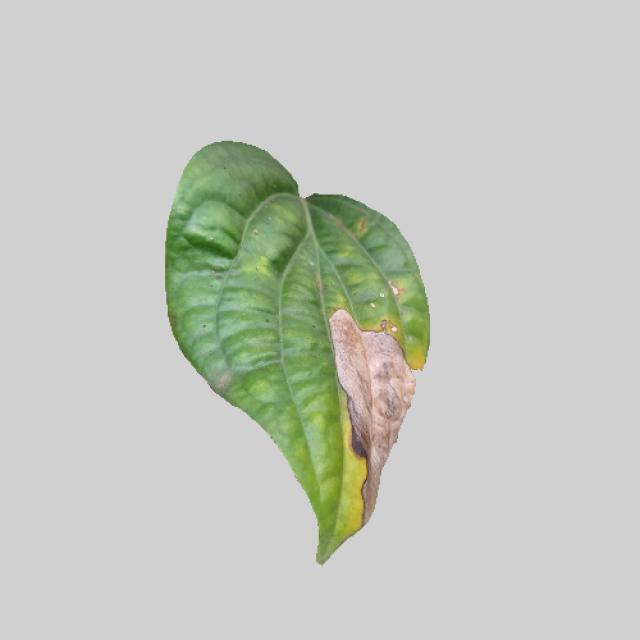leaf-blight: (146, 141, 450, 566)
